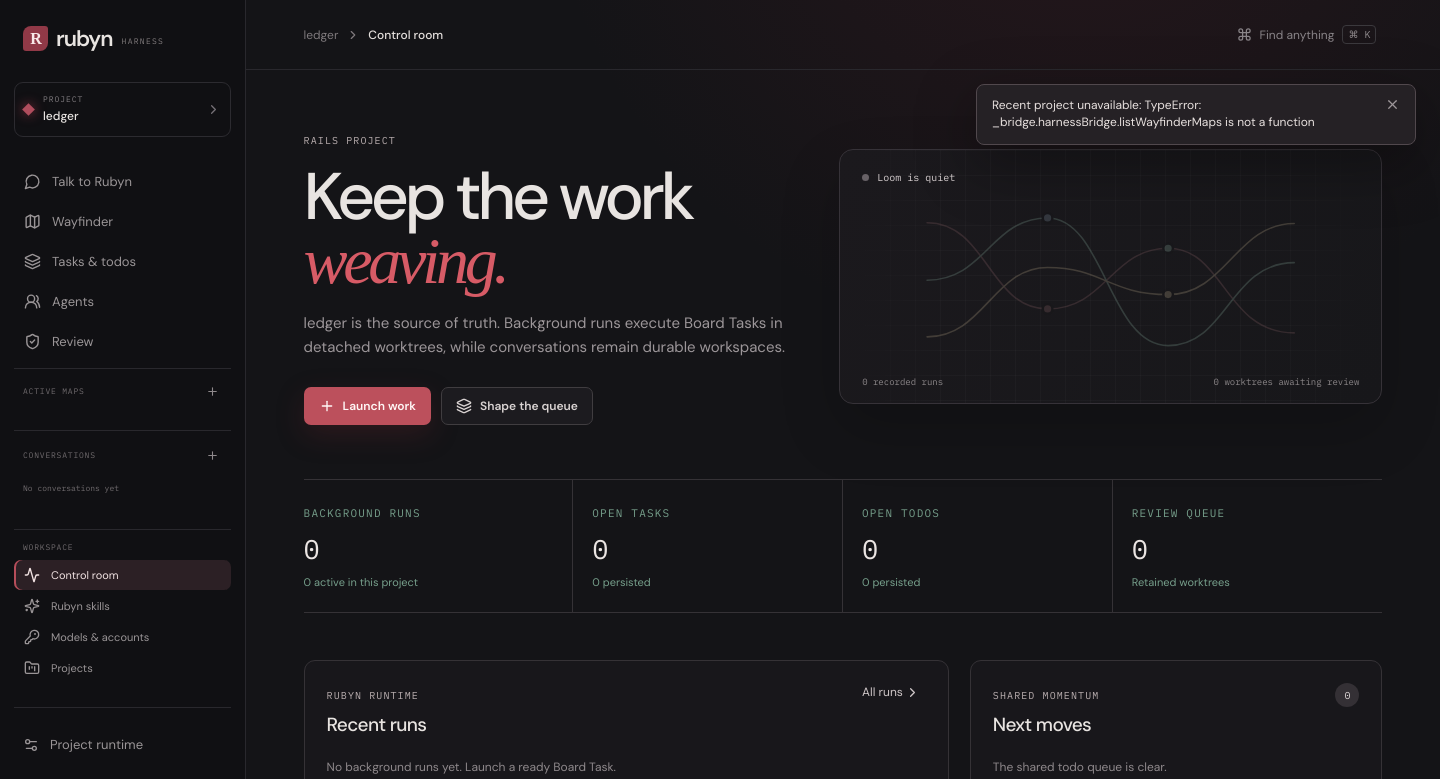
native product flow › closes a column menu before showing delete confirmation
Check: the text "ledger is the source of truth." is shown, box [304,311,795,359]
Click the button "Tasks & todos" at (122, 262), box [14,243,231,280]
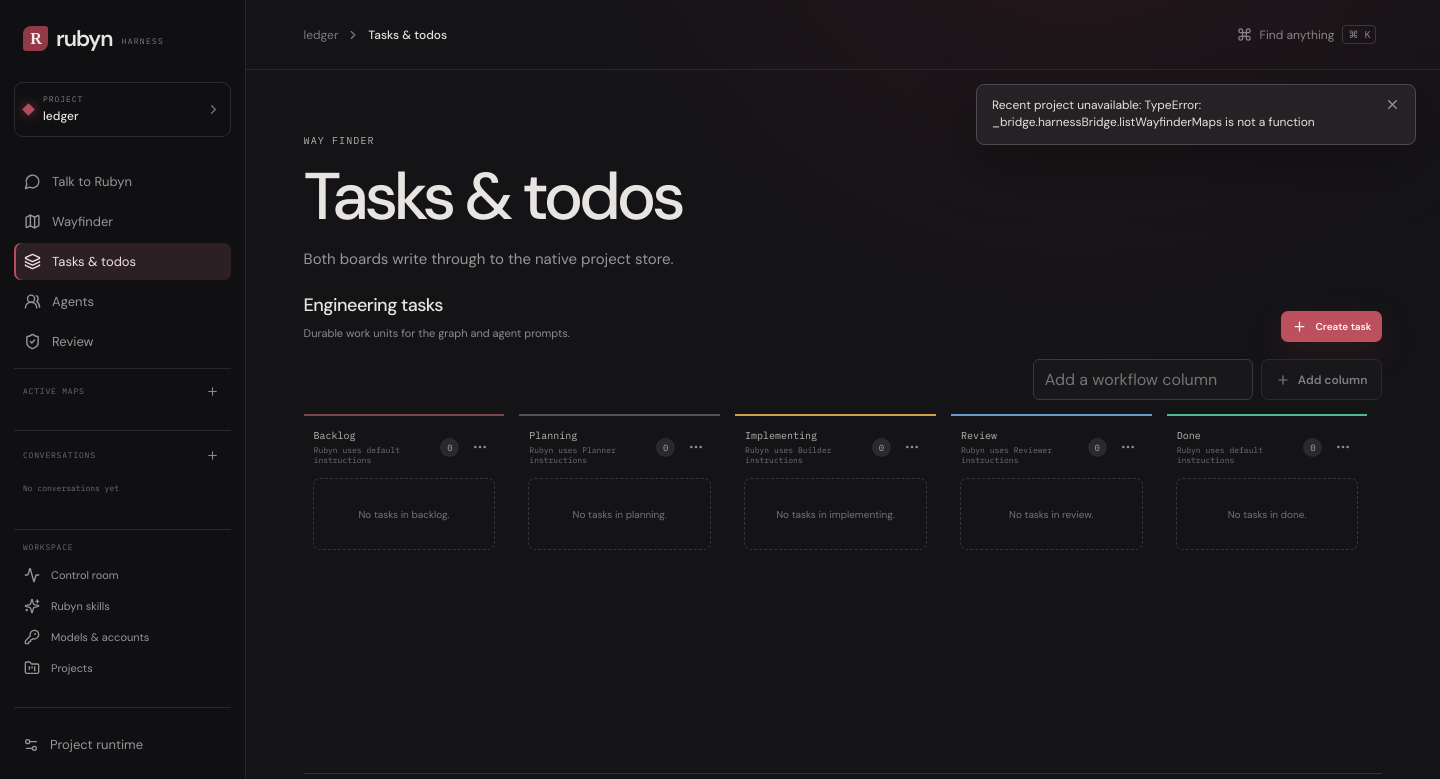
Click the button named "Planning column actions" at (696, 447), box [688,439,704,455]
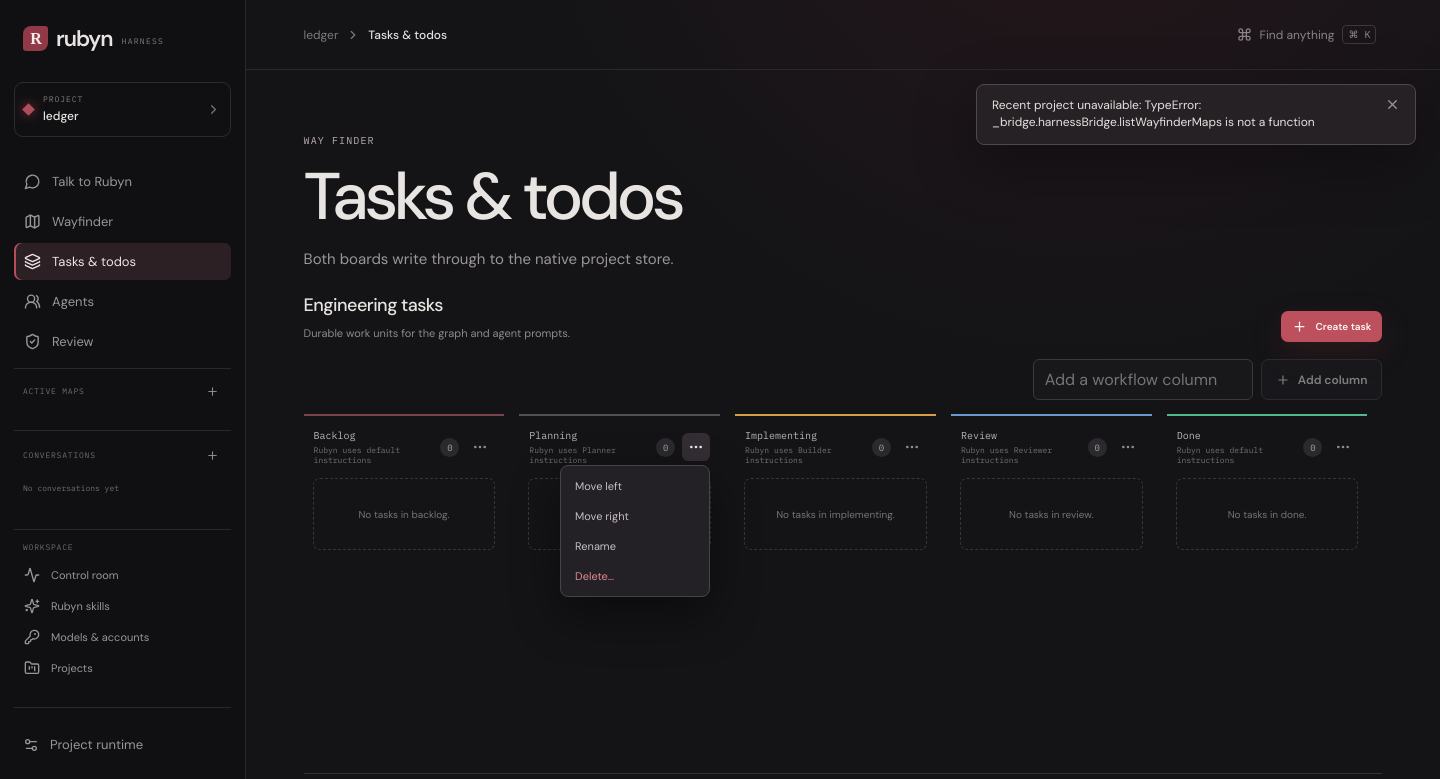
Check: the element named "Planning column actions" has attribute open, box [682,433,710,461]
Click the button with aria-label "Delete Planning" at (635, 576), box [566,561,704,591]
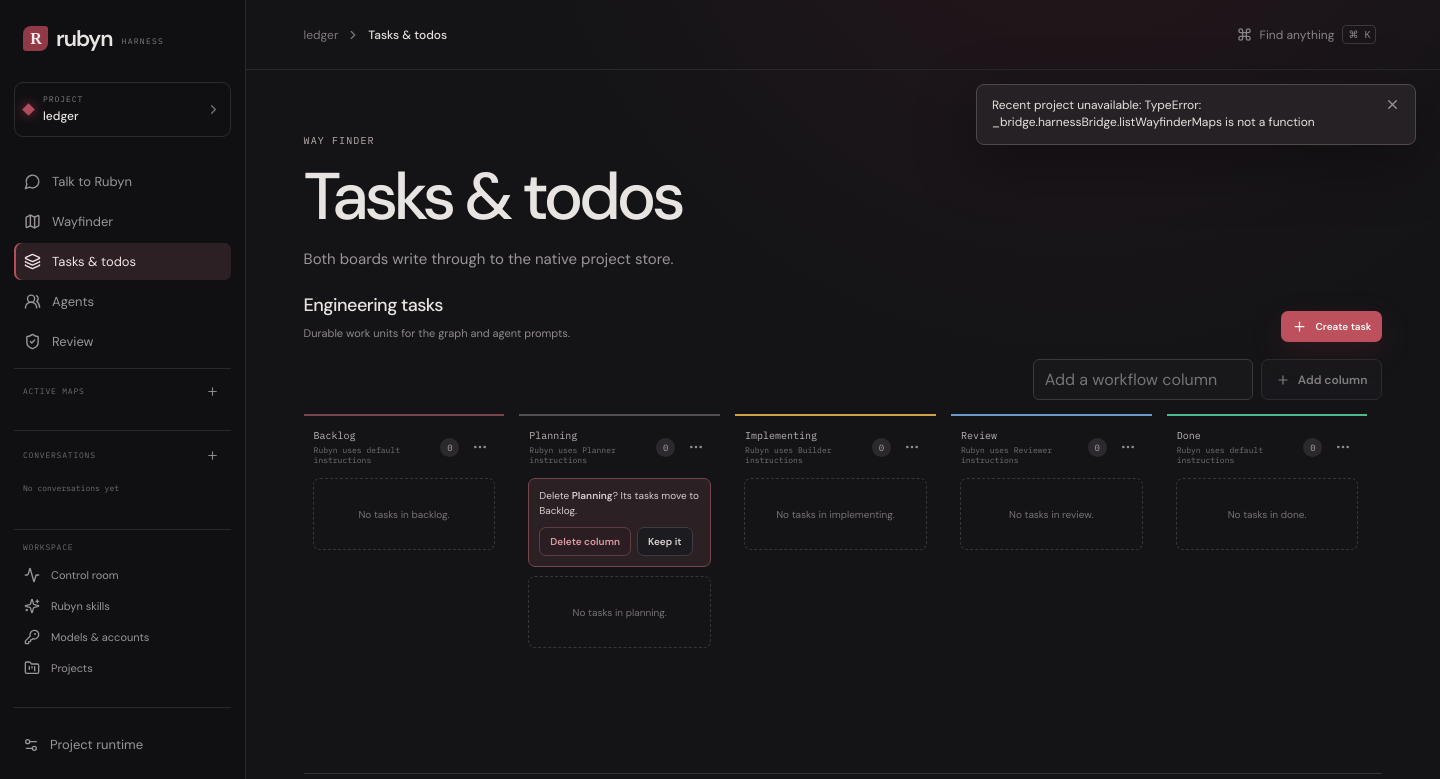
Check: the message "Delete Planning? Its tasks move to Backlog. Delete column Keep it" is shown, box [528,478,711,567]
Check: the button "Delete column" is shown, box [539,527,631,556]
